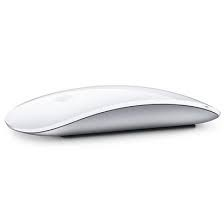mouse: (3, 62, 222, 140)
